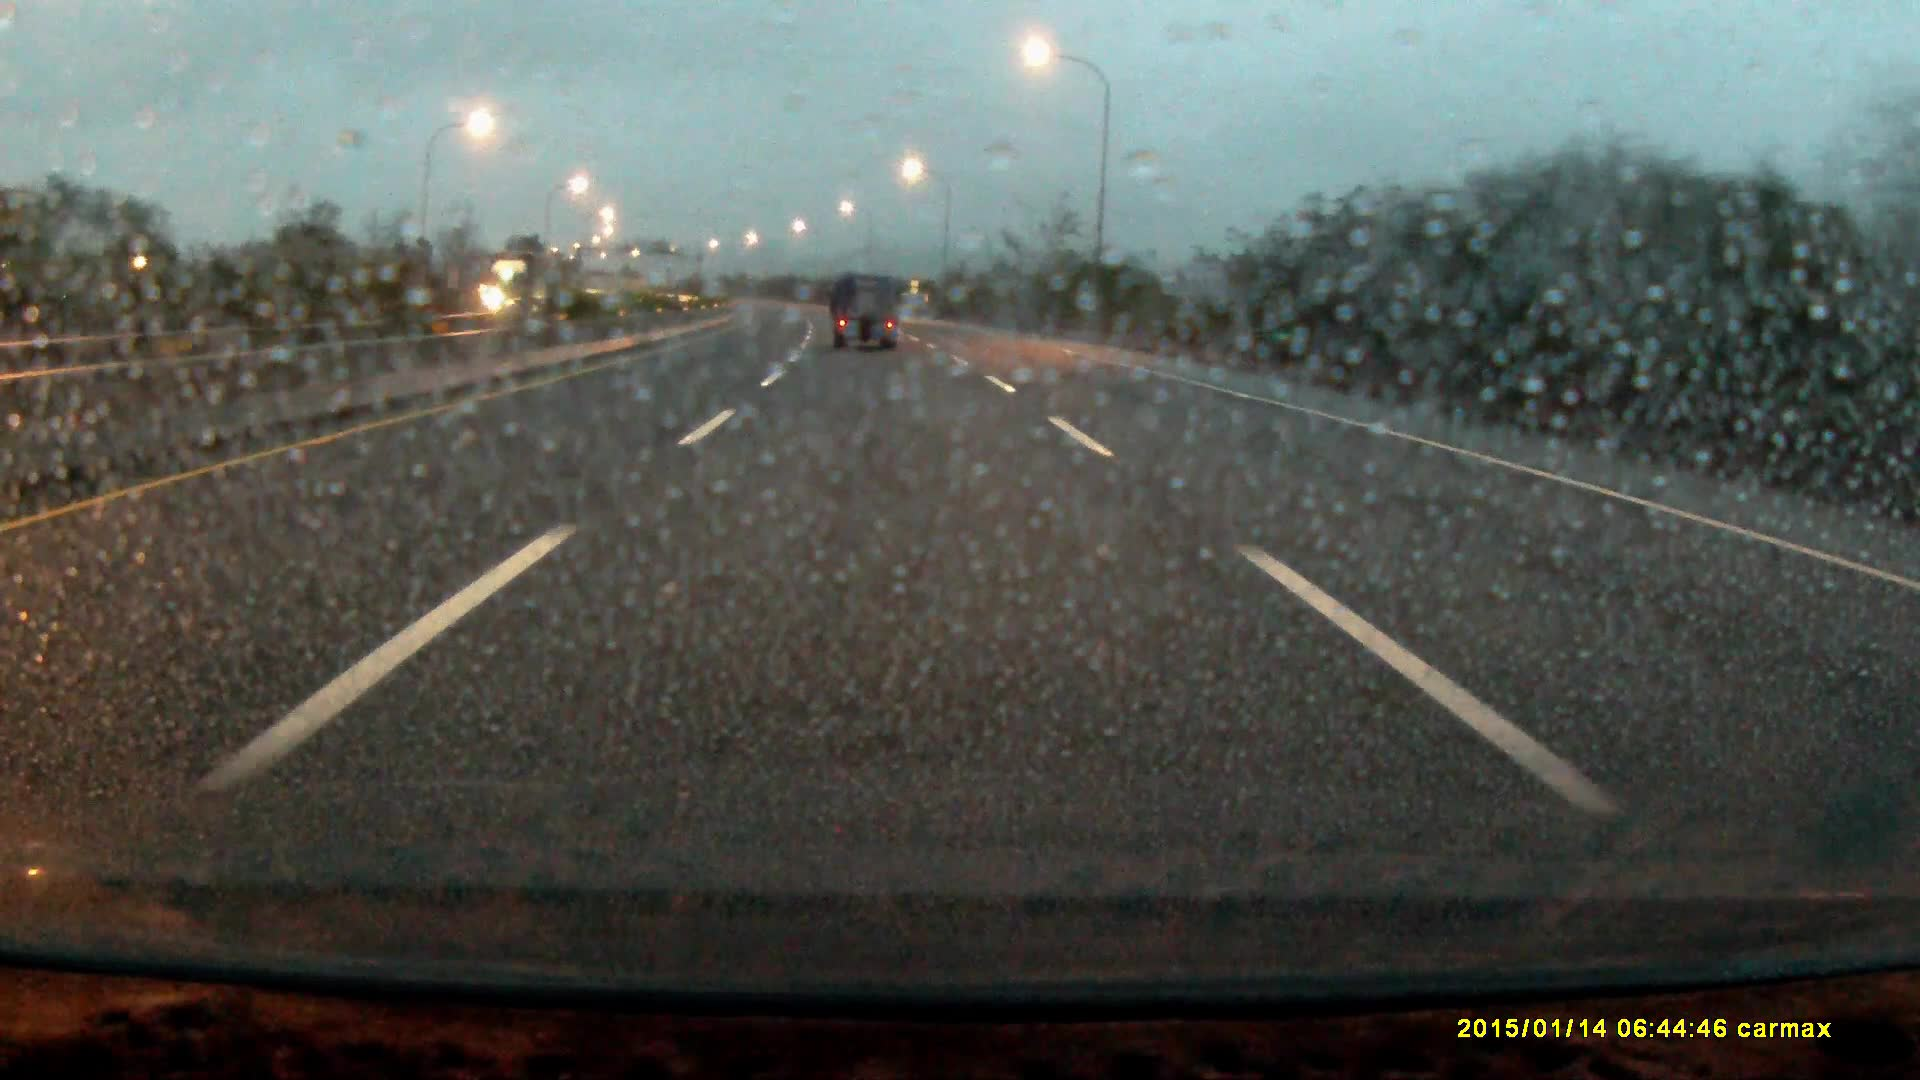vehicle: (472, 251, 570, 328), (832, 272, 902, 351)
